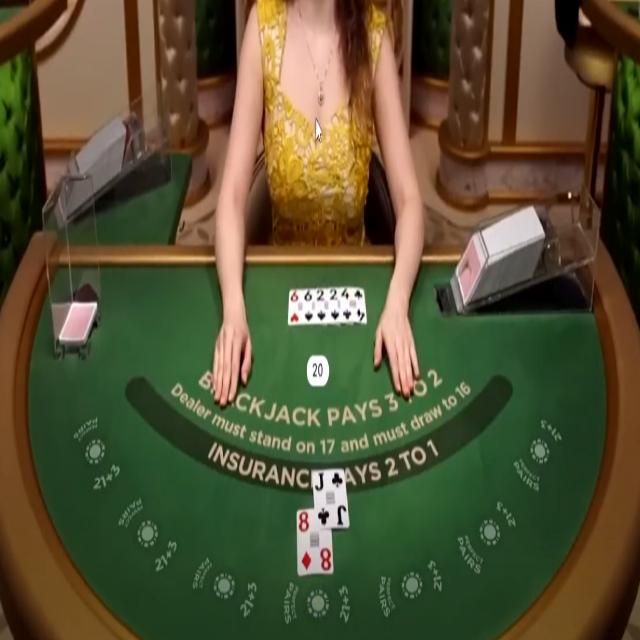Card-2: (328, 286, 341, 323), (315, 288, 328, 324)
Card-4: (341, 287, 367, 326)
Card-6: (288, 288, 303, 325), (303, 288, 315, 325)
Card-8: (296, 509, 333, 576)
Card-J: (312, 467, 350, 530)
